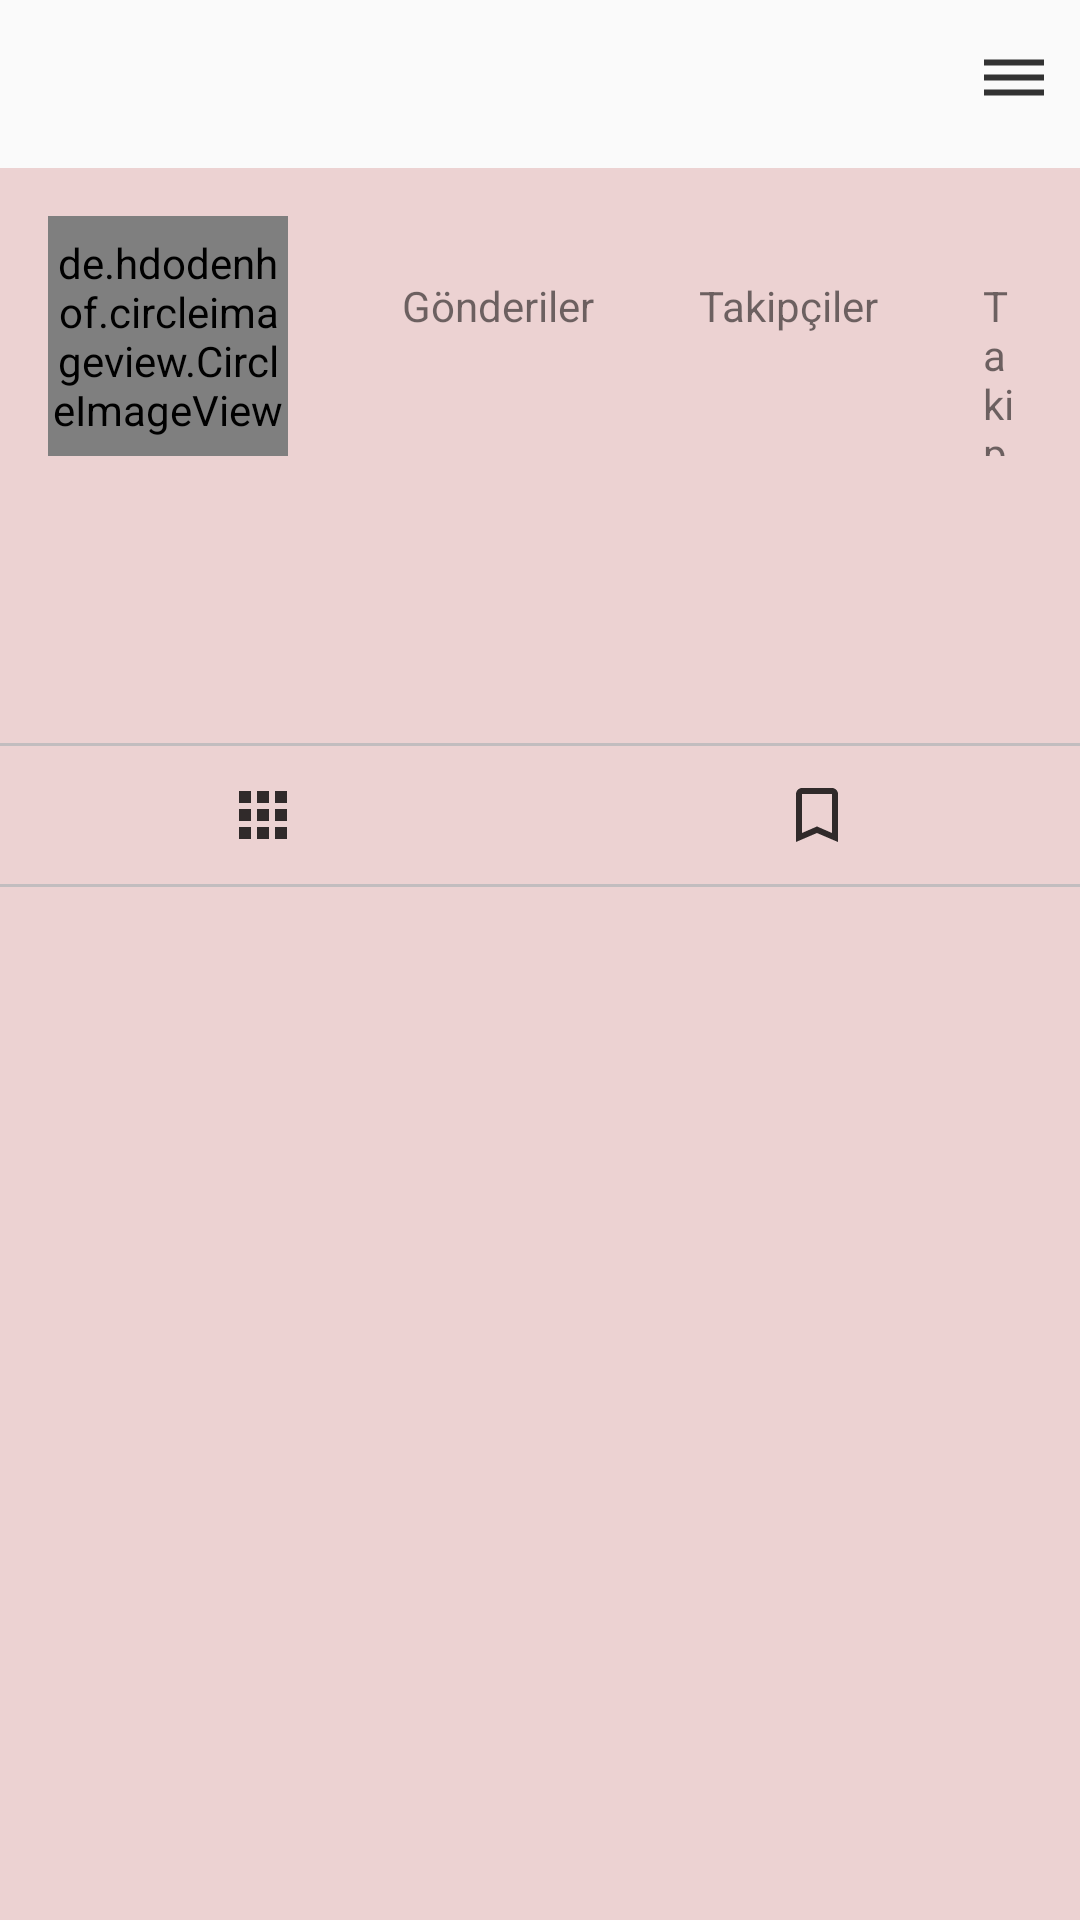

Icons on this 1080×1920 Android screen, each with its box as [x1, y1, x2, y2]:
options: [984, 59, 1044, 96]
